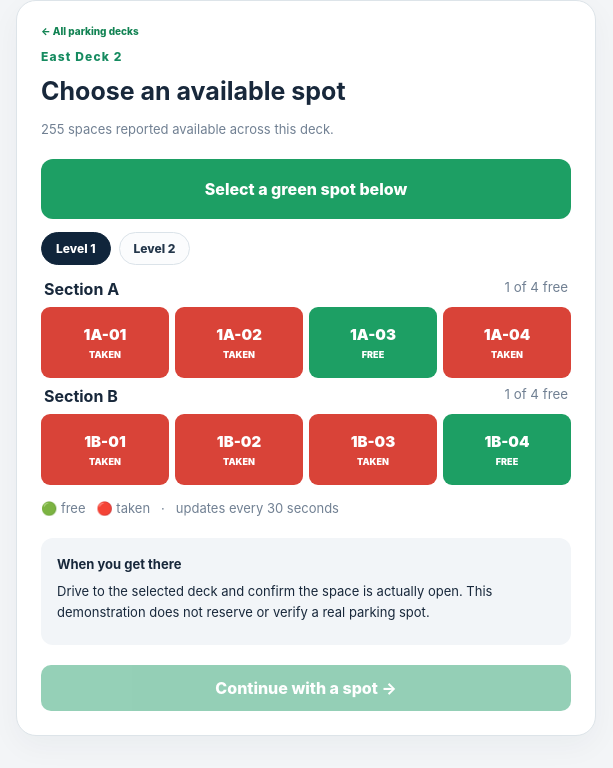
it: spots by level and section › a full level says so
The image size is (613, 768).
Click the button "Level 2" at (154, 249), box [118, 232, 190, 265]
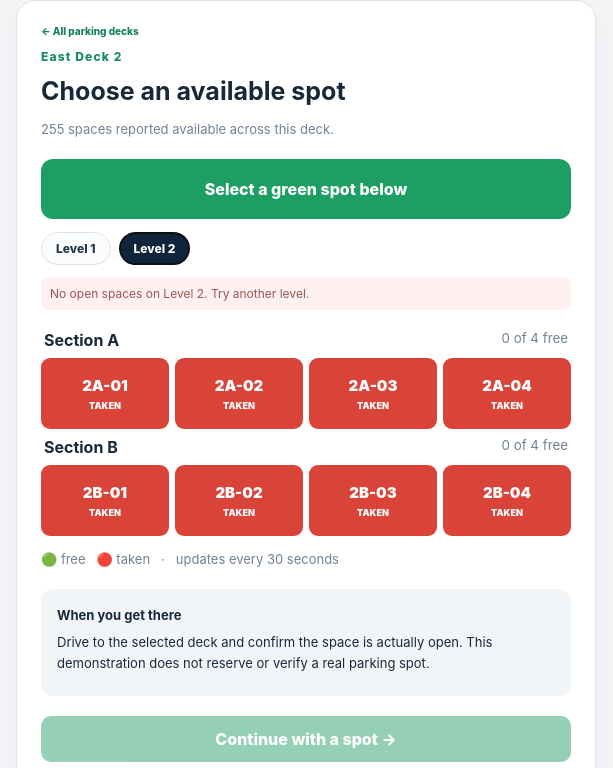
Expected: the text "No open spaces on Level 2. Try another level." is shown, [41, 277, 571, 310]
